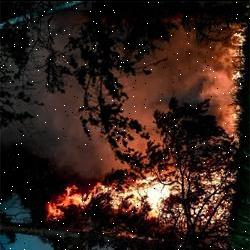fire: (37, 161, 232, 241), (224, 17, 250, 145)
